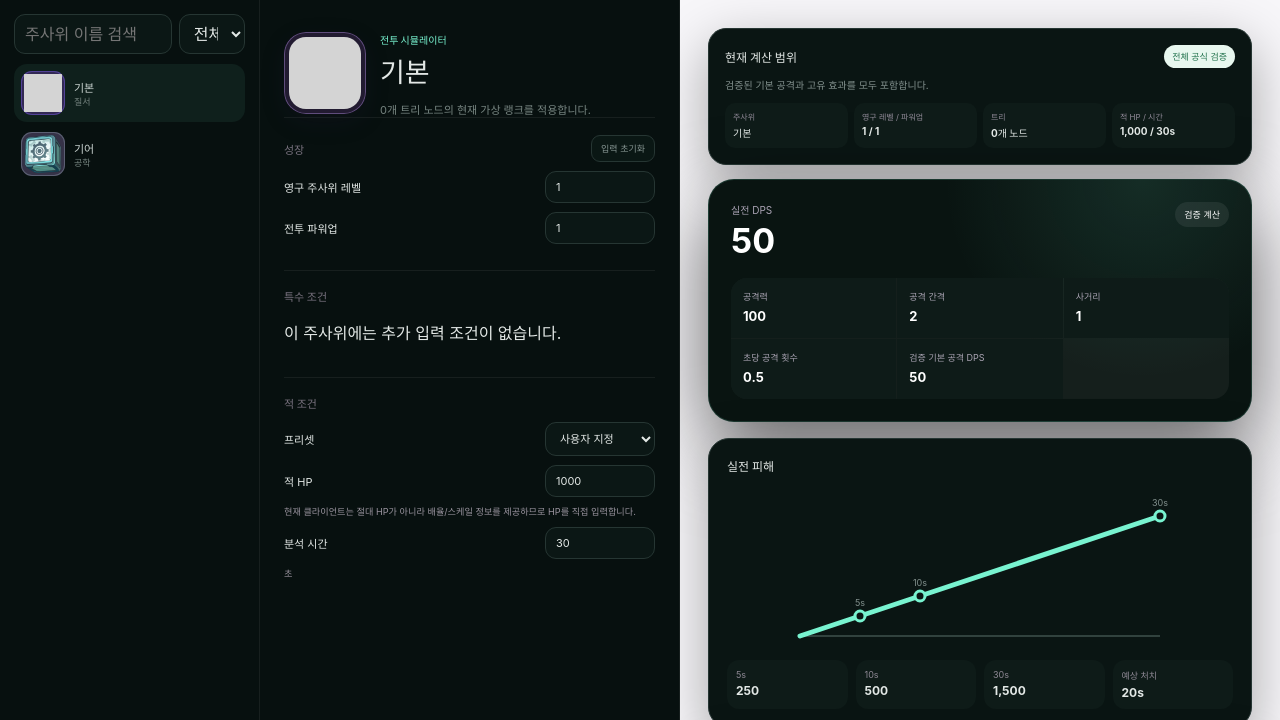
SimulatorView › shows only the selected dice mechanic conditions and resets them on dice change
Expected: the text "주변 기어 주사위 수" is not shown
Click the option "기어 공학" at (130, 154), box [14,125,245,183]
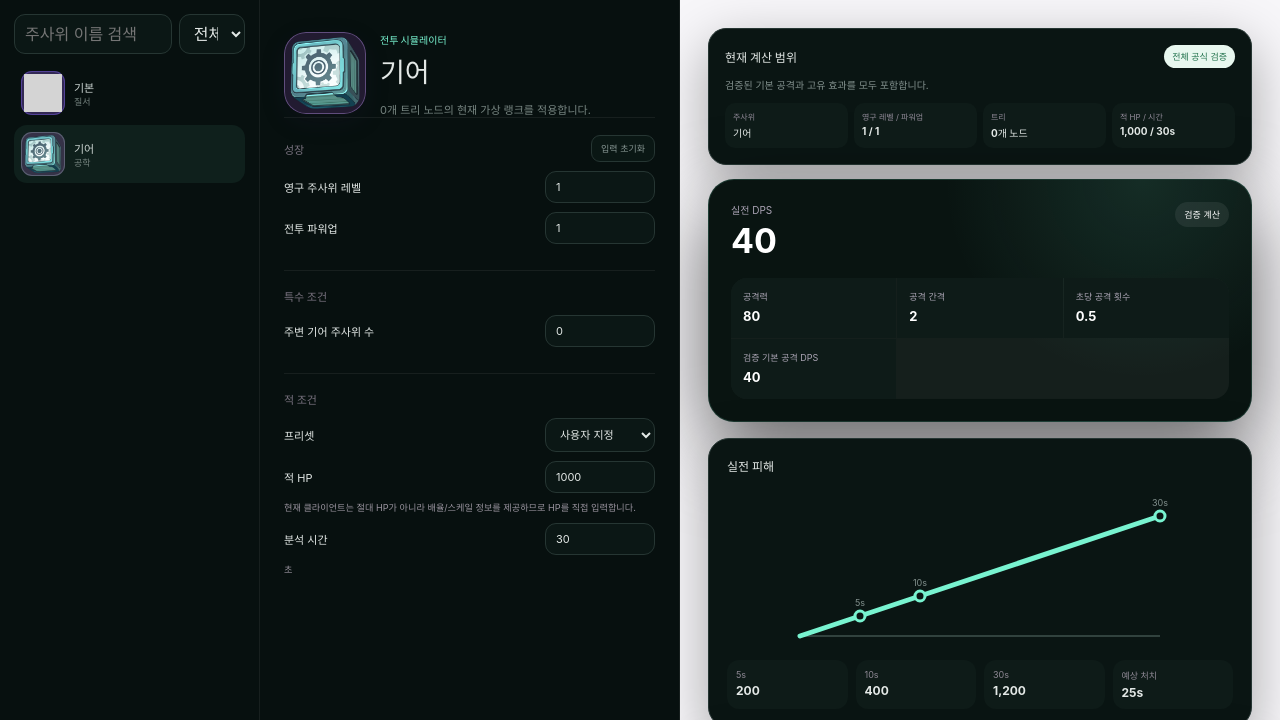
Now the element with test id "v3-condition-controls" shows "주변 기어 주사위 수", box [284,325,374,339]
